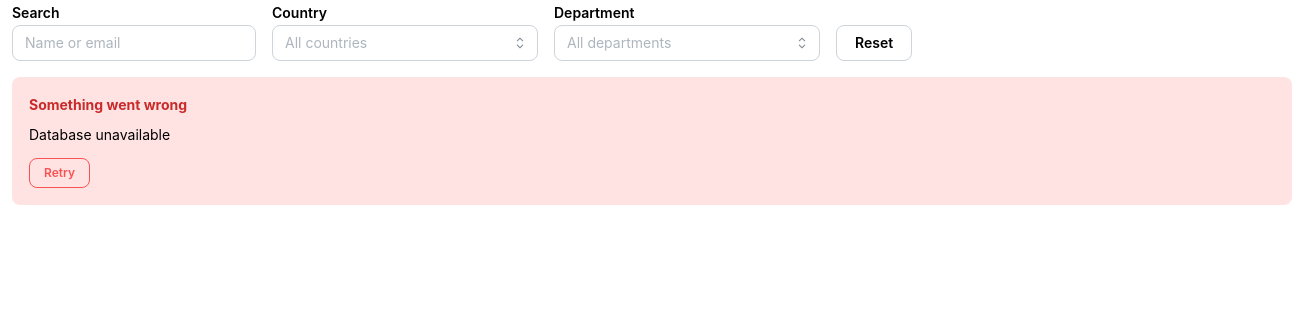
Test: DirectoryPage › shows an error with a retry that reloads the list
Expected: the text "Database unavailable" is shown, x1=29 y1=126 x2=170 y2=146
Click the button "Retry".
click(60, 173)  # box x1=29 y1=158 x2=90 y2=188
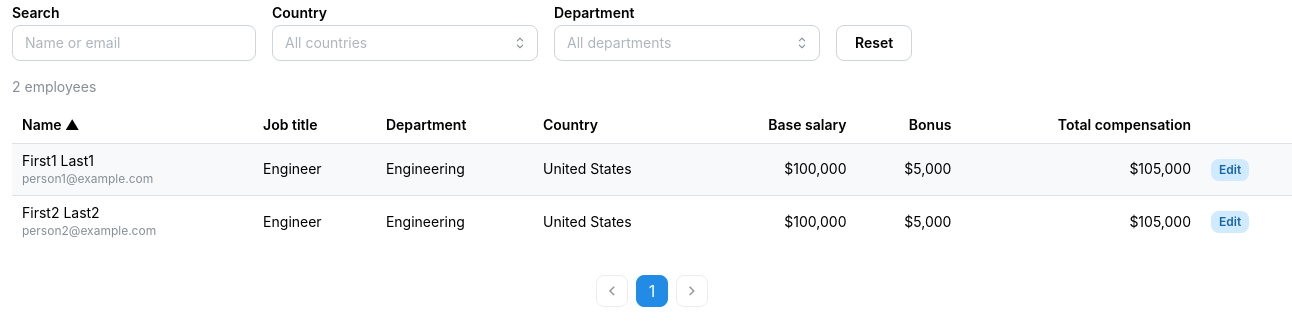
Result: the text "First1 Last1" is shown at x1=22 y1=152 x2=94 y2=169
